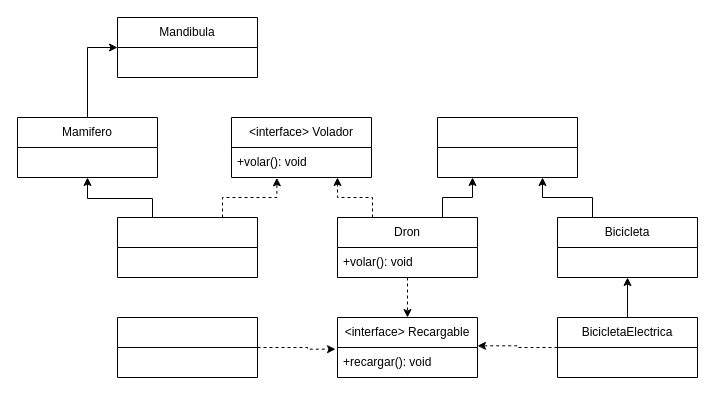
This 715x395 diagram has some shape labels left out. Each missing label, with the centre of its shape:
"Murcielago" belongs at point (187, 247).
"Tablet" belongs at point (187, 347).
"Vehiculo" belongs at point (507, 147).
